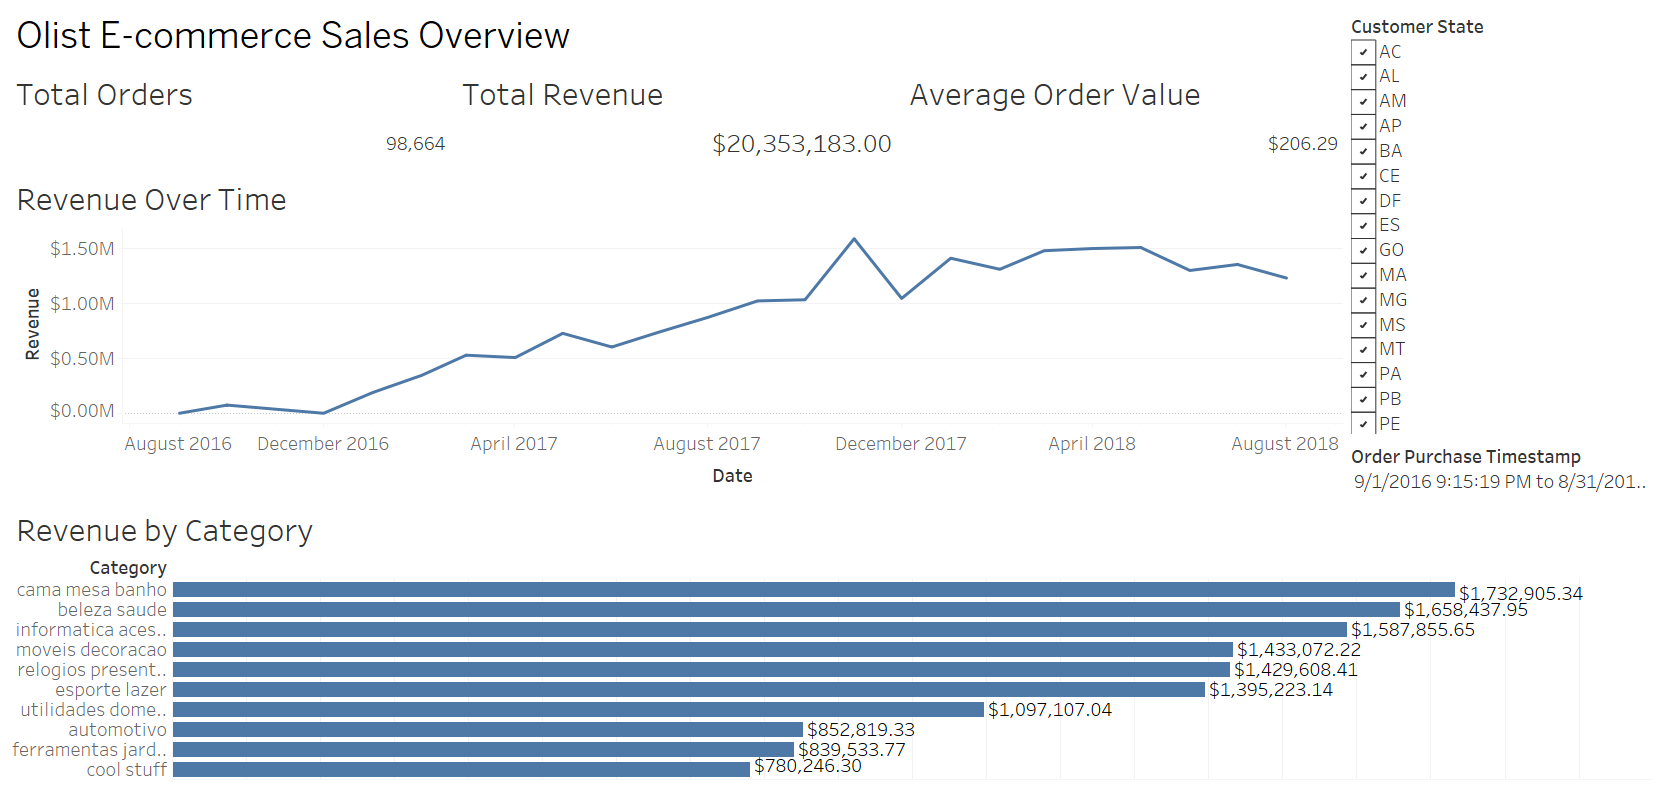

The dashboard page shown, as its layout file describes it:
{"tool":"tableau","page":{"name":"Olist E-commerce Sales Overview","canvas":[1000,1000],"units":"permille","ordinal":0},"visuals":[{"type":"title","box":[5,9.9,797.4,67]},{"type":"filter","title":"Revenue Over Time","param":"[federated.0av5ao00k4tg8y1eyl5wv02vvi8g].[none:customer_state:nk]","box":[802.4,9.9,192.6,533.3]},{"type":"worksheet","title":"Total Orders","mark":"Automatic","box":[5,76.9,265.8,130.3]},{"type":"worksheet","title":"Total Revenue","mark":"Automatic","box":[270.8,76.9,265.8,130.3]},{"type":"worksheet","title":"Average Order Value","mark":"Automatic","box":[536.6,76.9,265.8,130.3]},{"type":"worksheet","title":"Revenue Over Time","mark":"Automatic","rows":["payment_value"],"cols":["order_purchase_timestamp"],"box":[5,207.2,797.4,410.5]},{"type":"filter","title":"Revenue Over Time","param":"[federated.0av5ao00k4tg8y1eyl5wv02vvi8g].[none:order_purchase_timestamp:qk]","box":[802.4,543.3,192.6,74.5]},{"type":"worksheet","title":"Revenue by Category","mark":"Automatic","rows":["Calculation_1076641793479585804"],"cols":["payment_value"],"box":[5,617.7,990,372.4]}]}

Visuals, with their boxes on the dashboard's canvas, which has no fixed pixel size, in thousandths of its width and height (x1, y1, x2, y2). These are canvas units, not pixel positions in the 1664x806 screenshot, which may show the page scaled, cropped or inside an application window:
title: 5, 10, 802, 77
"Revenue Over Time" filter: 802, 10, 995, 543
"Total Orders" worksheet: 5, 77, 271, 207
"Total Revenue" worksheet: 271, 77, 537, 207
"Average Order Value" worksheet: 537, 77, 802, 207
"Revenue Over Time" worksheet: 5, 207, 802, 618
"Revenue Over Time" filter: 802, 543, 995, 618
"Revenue by Category" worksheet: 5, 618, 995, 990
